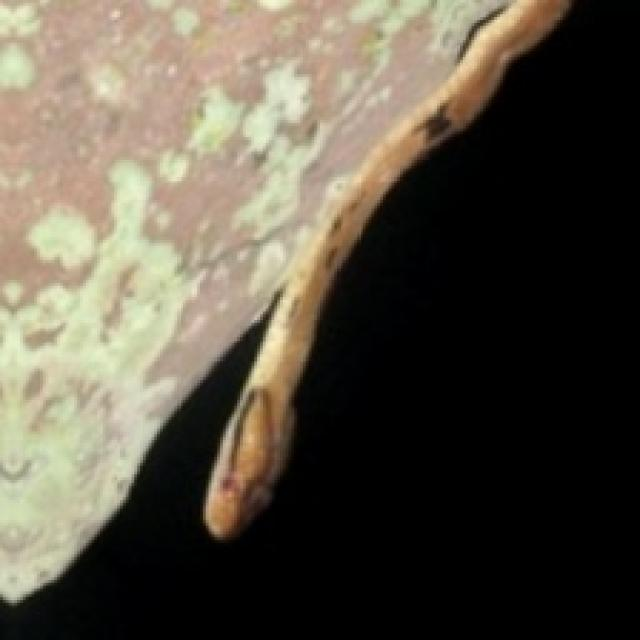dog-toothed cat snake: (203, 0, 569, 537)
